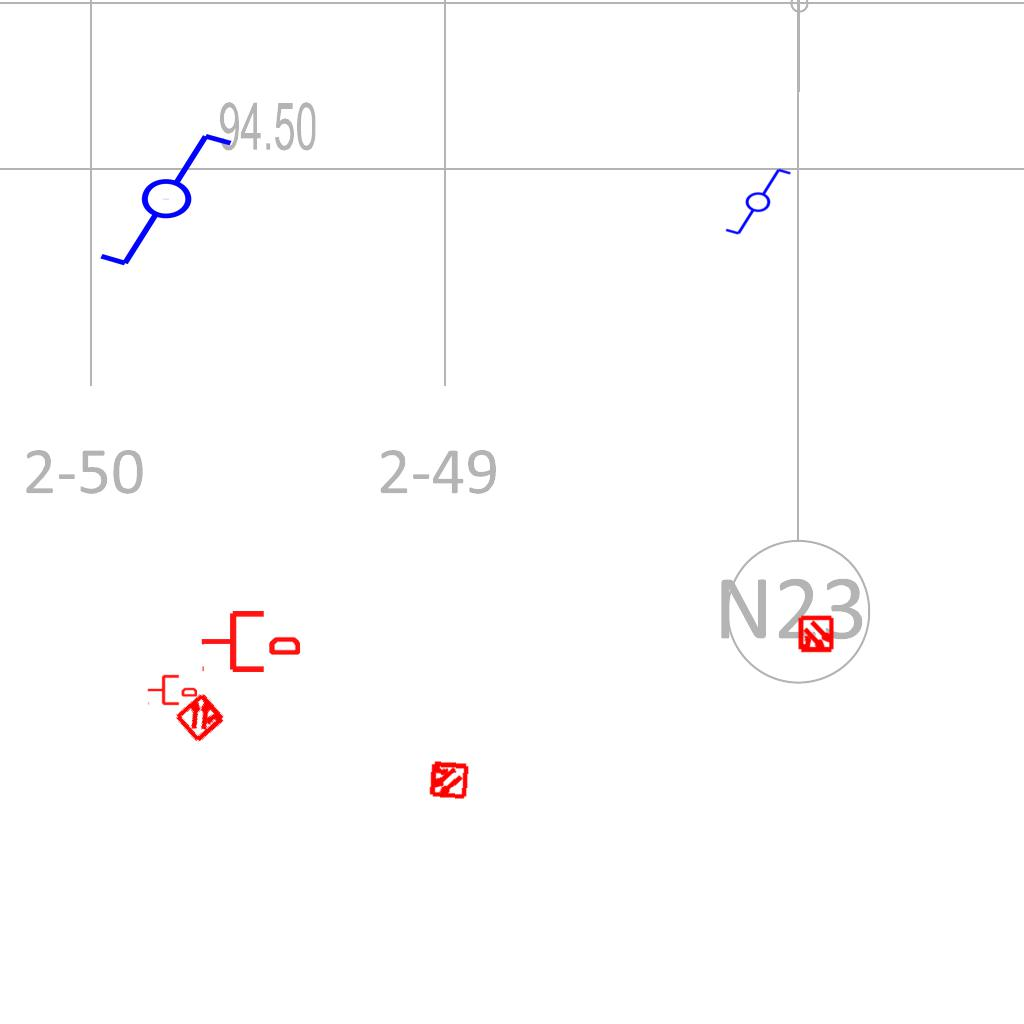Datenanschluss_einfach: (200, 607, 300, 676), (147, 673, 197, 707)
OT_Multisensormelder_(Kombination_RMO_WMD): (161, 677, 241, 757), (418, 750, 478, 810), (788, 607, 844, 663)
Wechselschalter: (96, 129, 253, 273), (715, 165, 793, 237)
